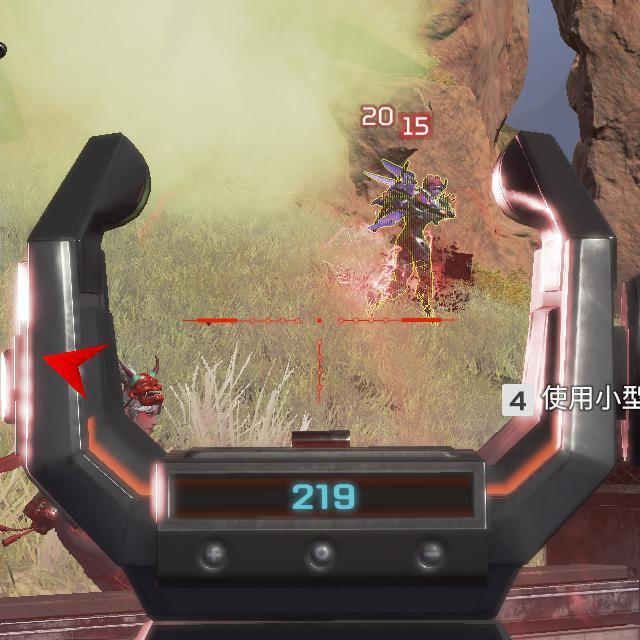avatar: (380, 173, 456, 315)
